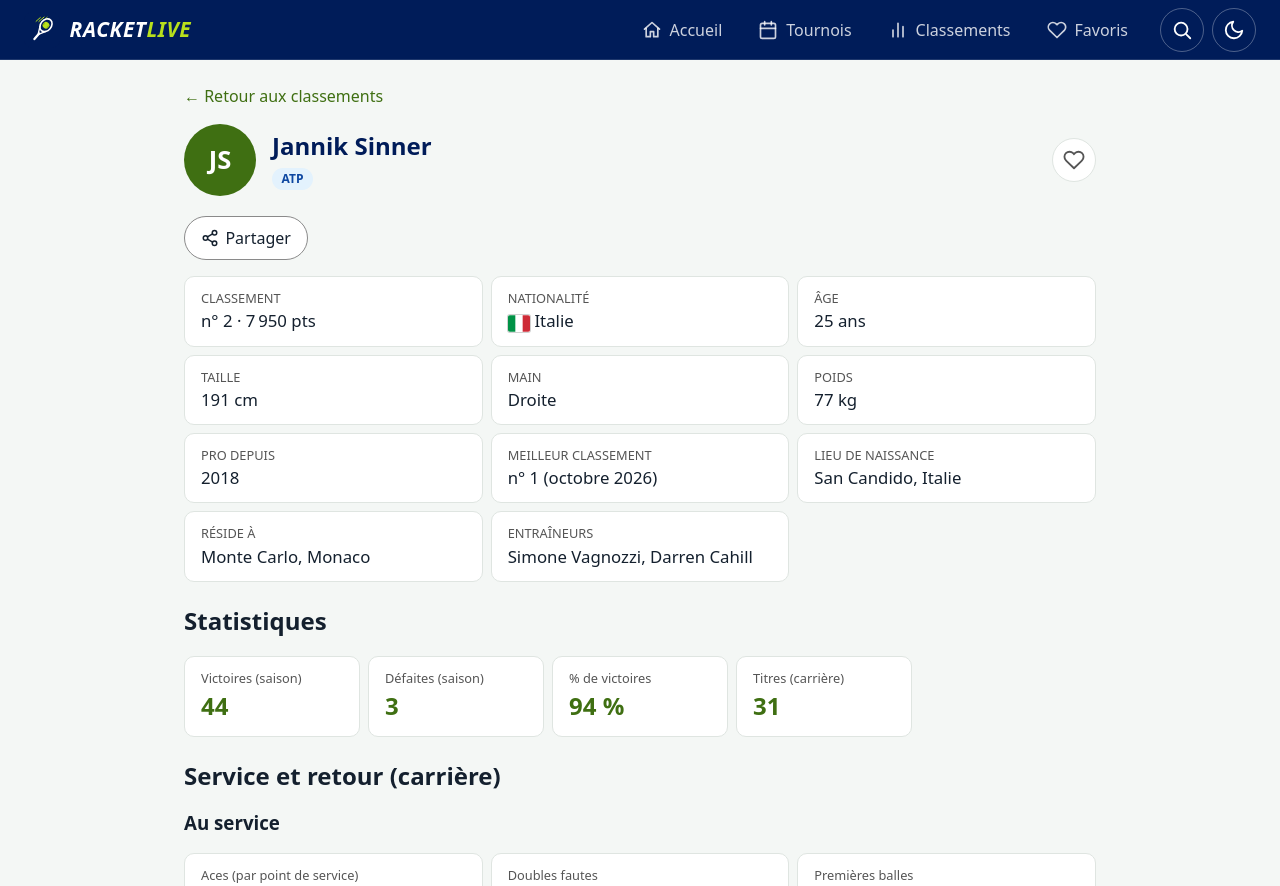
Test case: Parcours favoris › ajoute un joueur en favori puis le retire depuis la page Favoris
Note: On l'ajoute en favori
Click the button named "Favori : Jannik Sinner" at (1074, 160), box left=1052, top=138, right=1096, bottom=182
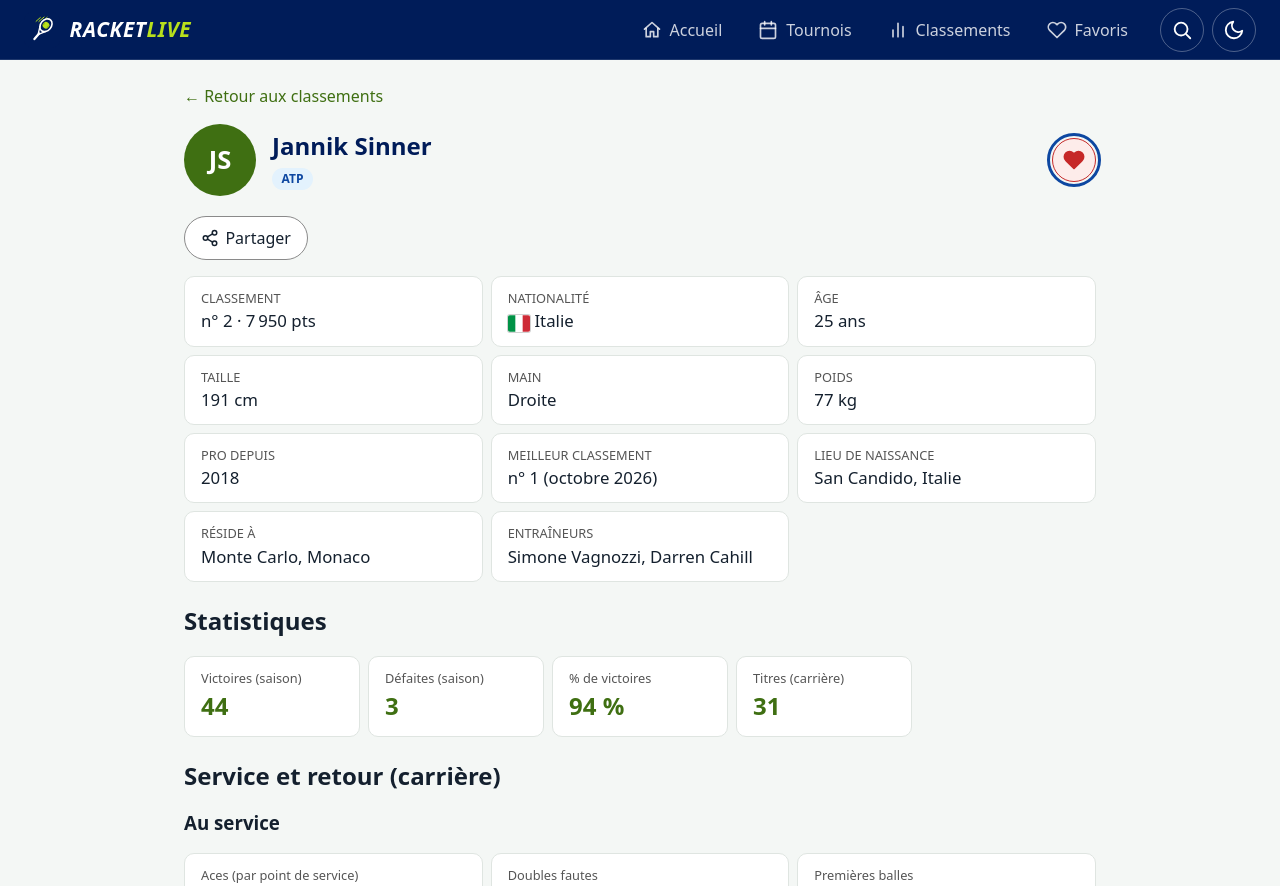
Check: the button named "Favori : Jannik Sinner" is pressed, box left=1052, top=138, right=1096, bottom=182
Note: On va sur la page Favoris avec la navigation
Click the link "Favoris" at (1087, 30), box left=1046, top=19, right=1128, bottom=41
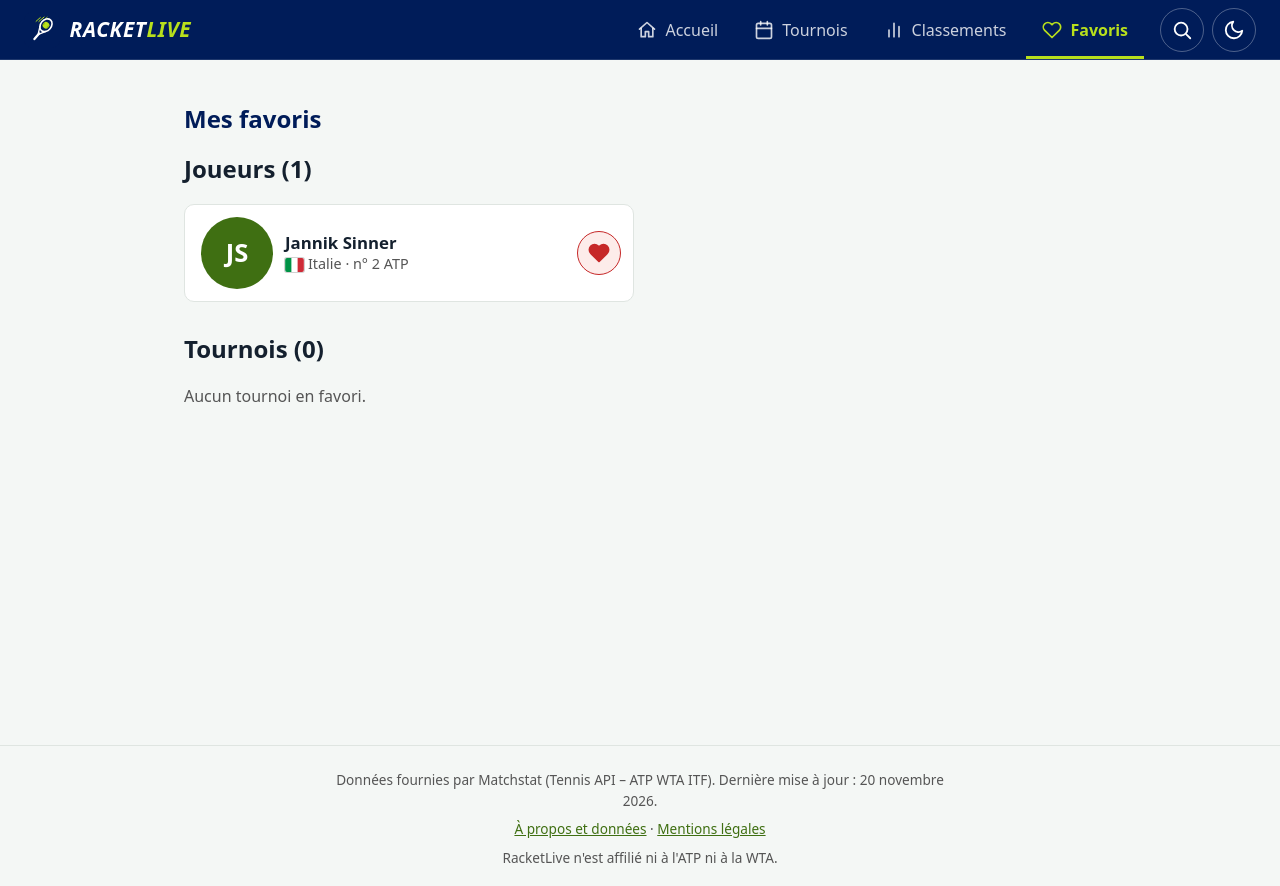
Check: the heading "Mes favoris" is shown, box left=184, top=102, right=321, bottom=135
Check: the link "JS Jannik Sinner Italie · n° 2 ATP" is shown, box left=201, top=217, right=409, bottom=289
Check: the heading "Joueurs (1)" is shown, box left=184, top=152, right=312, bottom=185
